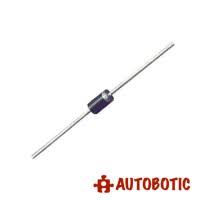diode: (71, 77, 140, 147)
